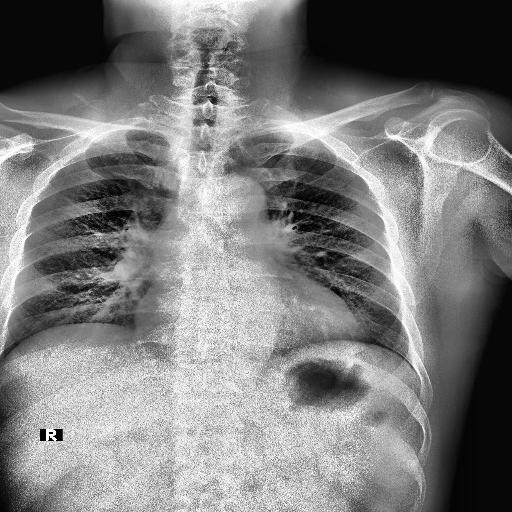0- Aortic enlargement: (202, 174, 266, 230), (210, 176, 270, 226), (204, 173, 266, 218)
3- Cardiomegaly: (131, 296, 365, 369), (134, 295, 362, 348), (132, 289, 356, 342)
